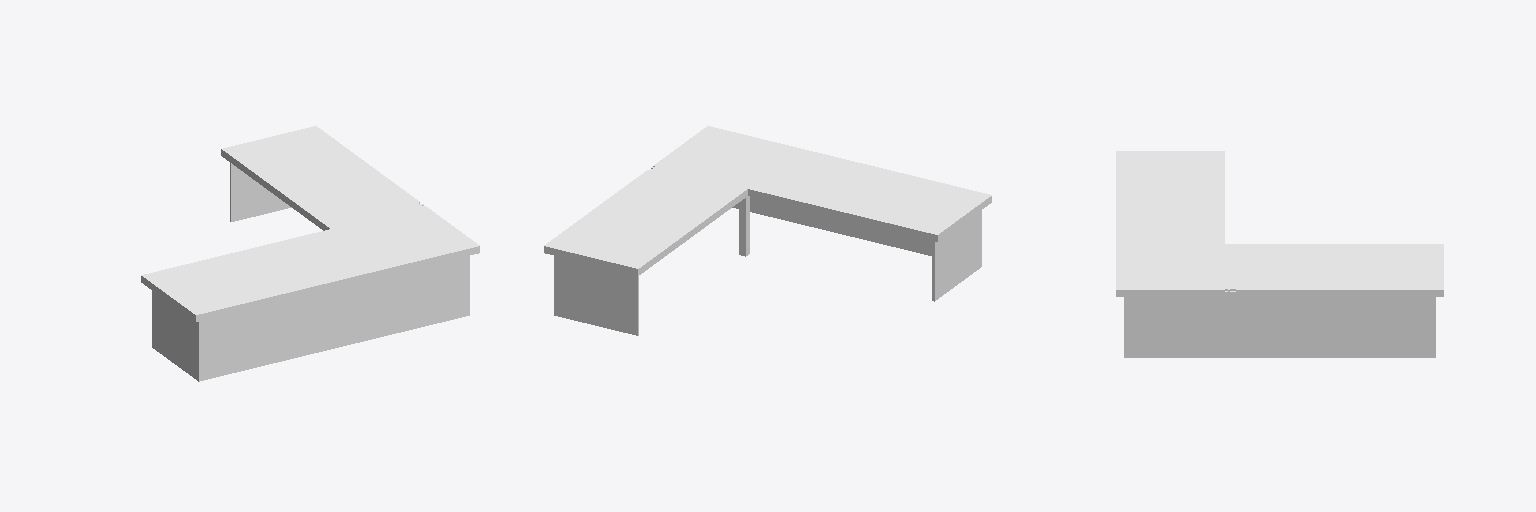
File: L_table.obj
3 views of the same model, side by side, from view 1: azimuth 30°, elevation 25°; view 2: azimuth 150°, elevation 25°; view 3: azimuth 270°, elevation 25° (orthographic).
Parts seen in each view (by area): view 1: L_table; view 2: L_table; view 3: L_table.
Part boxes in pixels (x1,y1,x2,y2): L_table: (141,126,479,381); L_table: (544,126,991,335); L_table: (1116,151,1443,357).
Bounding box in the file's own units: 126 × 30 × 126.